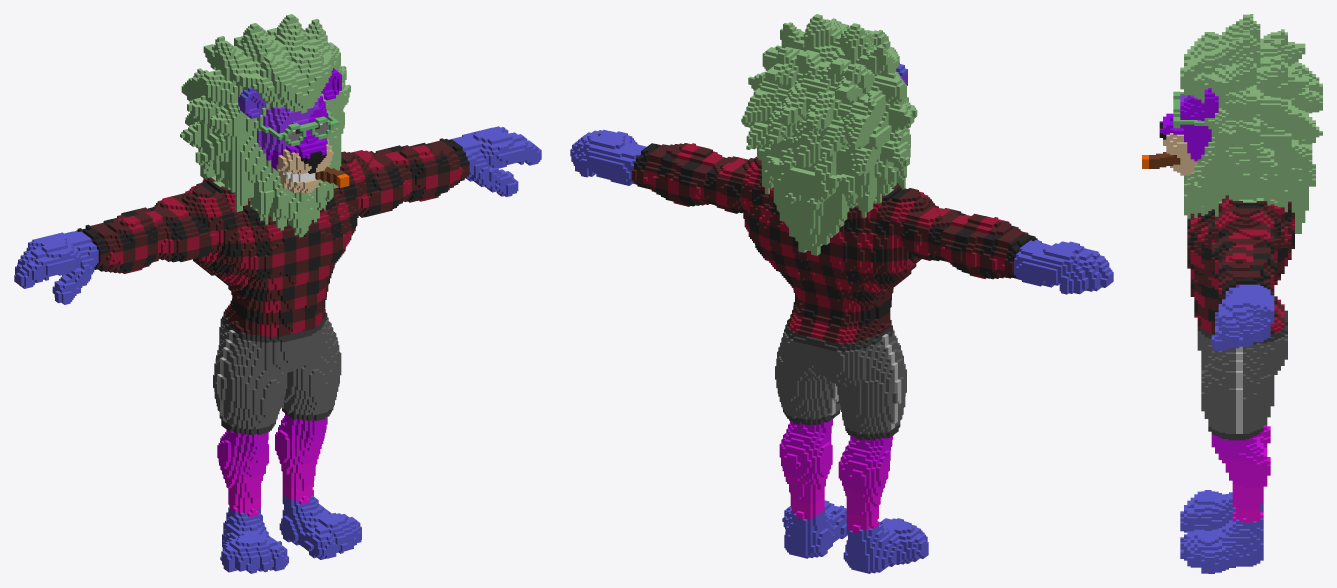
File: 689-qtGwe3PX.fbx
3 renders of one model, left to right at view 1: azimuth 30°, elevation 25°; view 2: azimuth 150°, elevation 25°; view 3: azimuth 270°, elevation 25°, orthographic. The views are drawn at different scales.
Parts seen in each view (by area): view 1: cigar; view 2: cigar; view 3: cigar.
Boxes of the visible parts, bbox=[...] form: cigar: bbox=[14, 14, 541, 573]; cigar: bbox=[570, 14, 1113, 573]; cigar: bbox=[1142, 14, 1322, 573].
Size of the model in its own units: 17.2 by 16.5 by 5.2.
5 materials, 5 textured.
